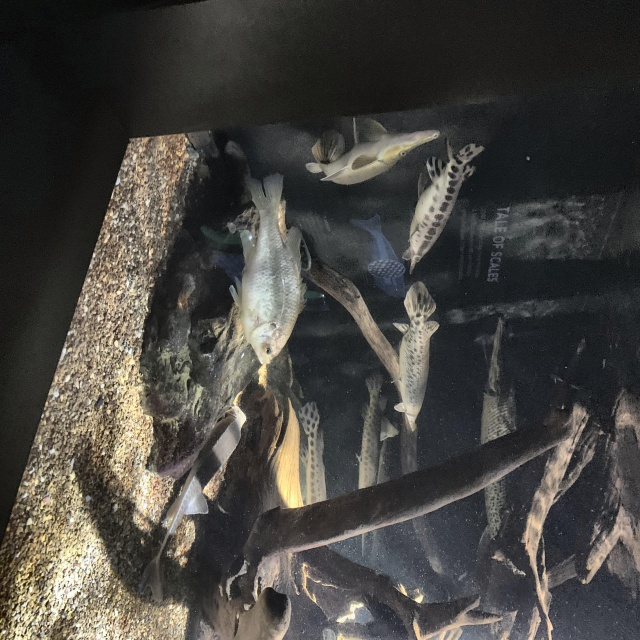fish: (229, 170, 308, 367), (473, 310, 524, 559), (400, 137, 486, 276), (304, 113, 441, 188), (391, 277, 441, 429), (356, 372, 399, 509), (349, 212, 408, 301), (297, 399, 328, 521)
shark: (136, 403, 247, 603)
